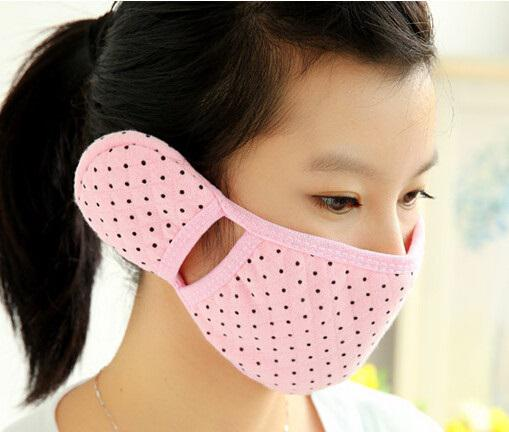OK: (216, 139, 454, 377)
